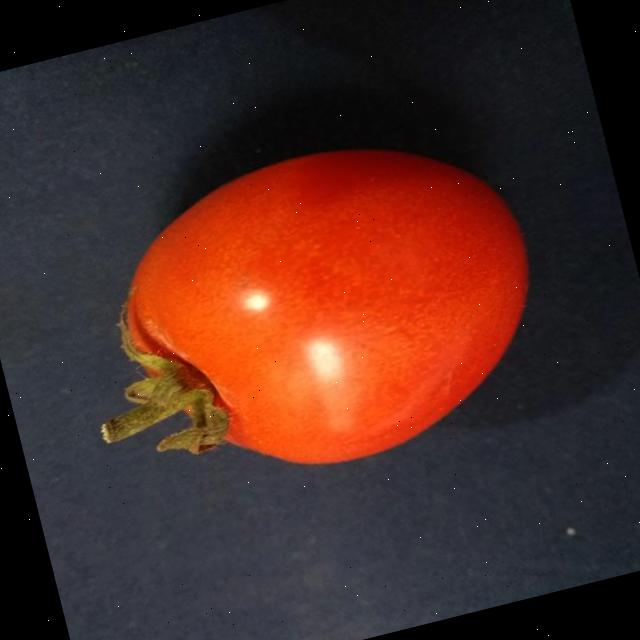tomato: (34, 104, 584, 530)
